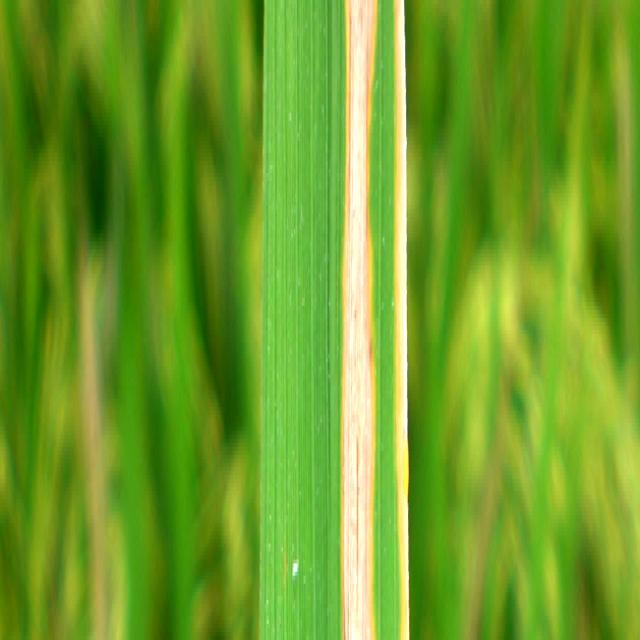BLB: (341, 0, 378, 640), (394, 0, 409, 640)
